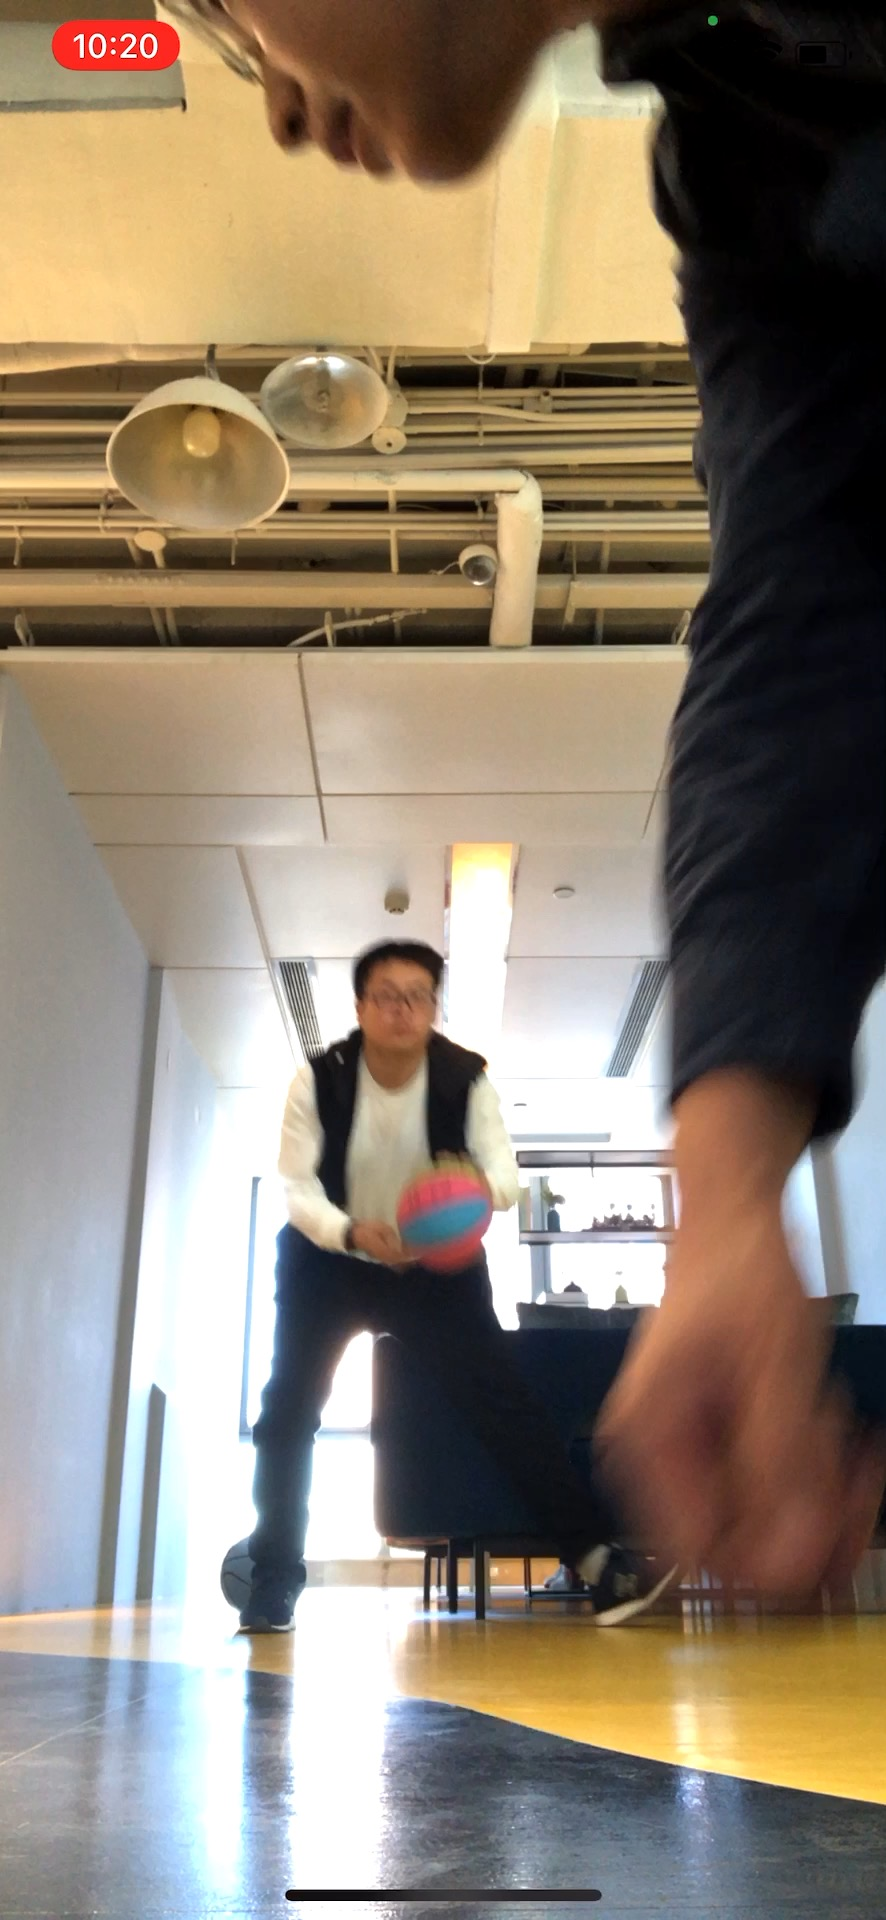ball: (396, 1160, 490, 1270)
